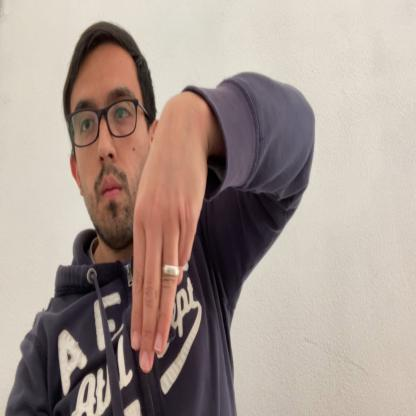M: (131, 91, 207, 374)
